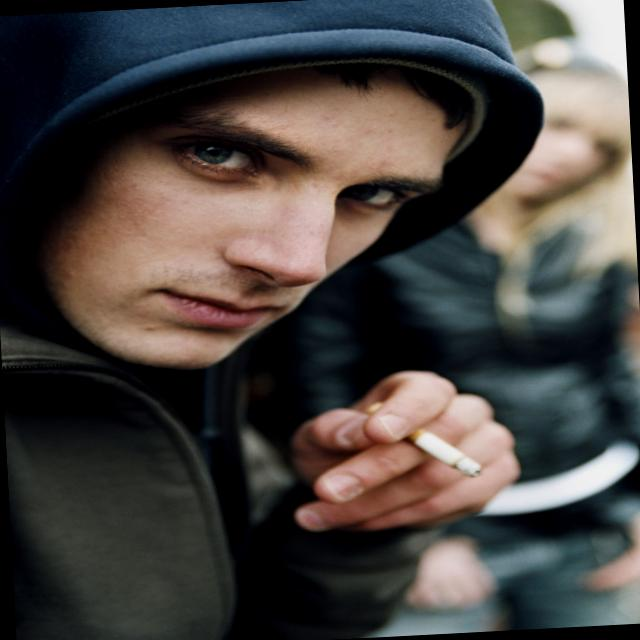cigarette: (358, 394, 488, 483)
